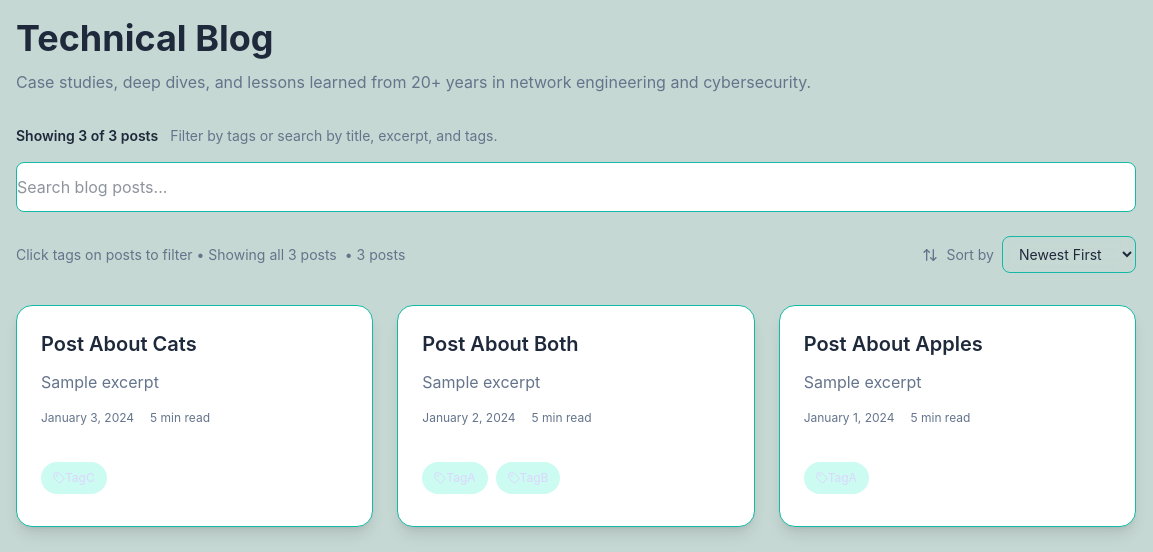
Test: Blog › shows empty state and clears filters when clear button clicked
Check: the heading "Technical Blog" is shown, box [16, 16, 274, 60]
What coordinates should you click on to do the following:
click the button "TagA" below "January 2, 2024"
I would click on:
 (455, 478)
Its box is [422, 462, 488, 494].
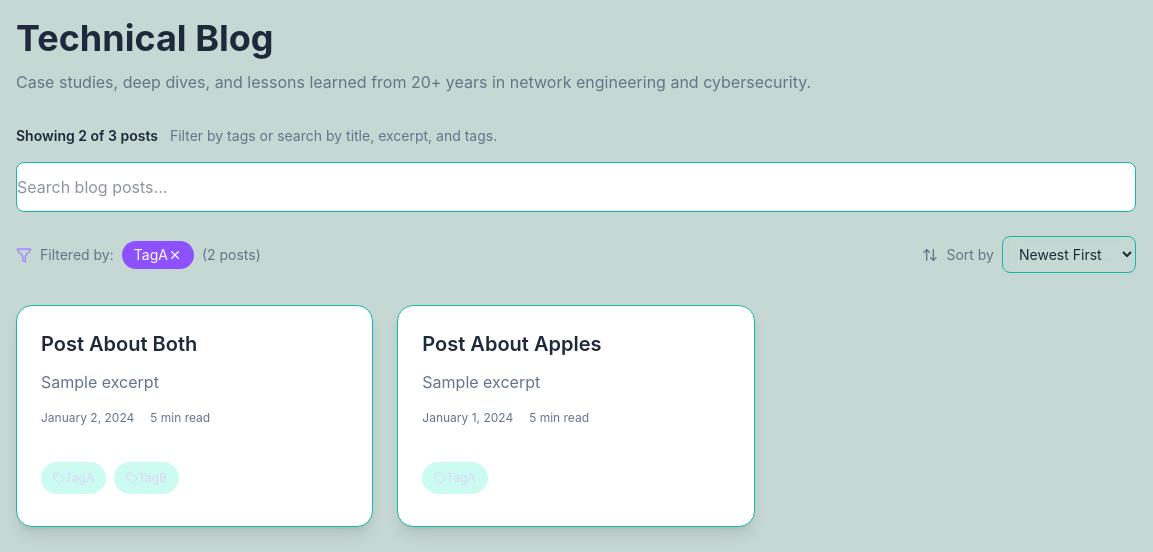
Check: the text "Filtered by:" is shown, box [40, 244, 114, 264]
